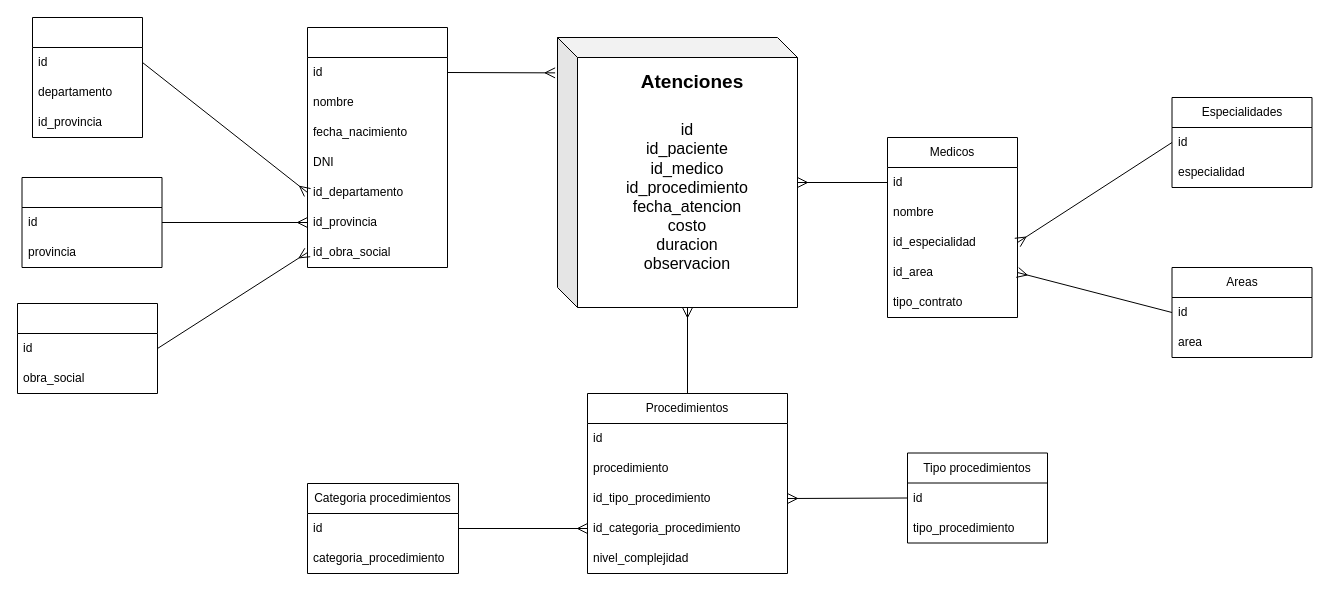
Some shapes in this 1330 by 591 pixel diagram are drawn without their labels. The box of each missing label's shape, as (x1, y1, x2, y2) in pixels:
Departamentos: (32, 16, 142, 138)
Obras sociales: (16, 302, 158, 394)
Pacientes: (306, 26, 448, 268)
Provincias: (21, 176, 162, 268)
